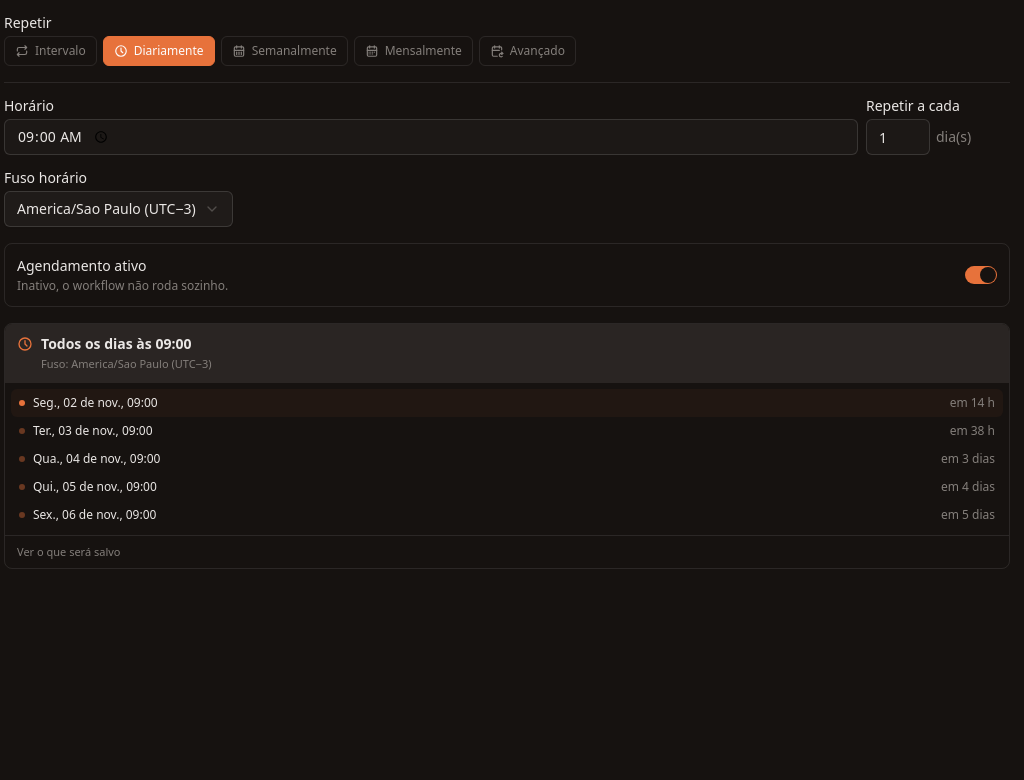
Scenario: ScheduleTriggerHelper — edição grava os campos canônicos › cron avançado inválido não é gravado (preserva o agendamento) e mostra erro
Click the button "Avançado": point(527, 51) [479,36,576,66]
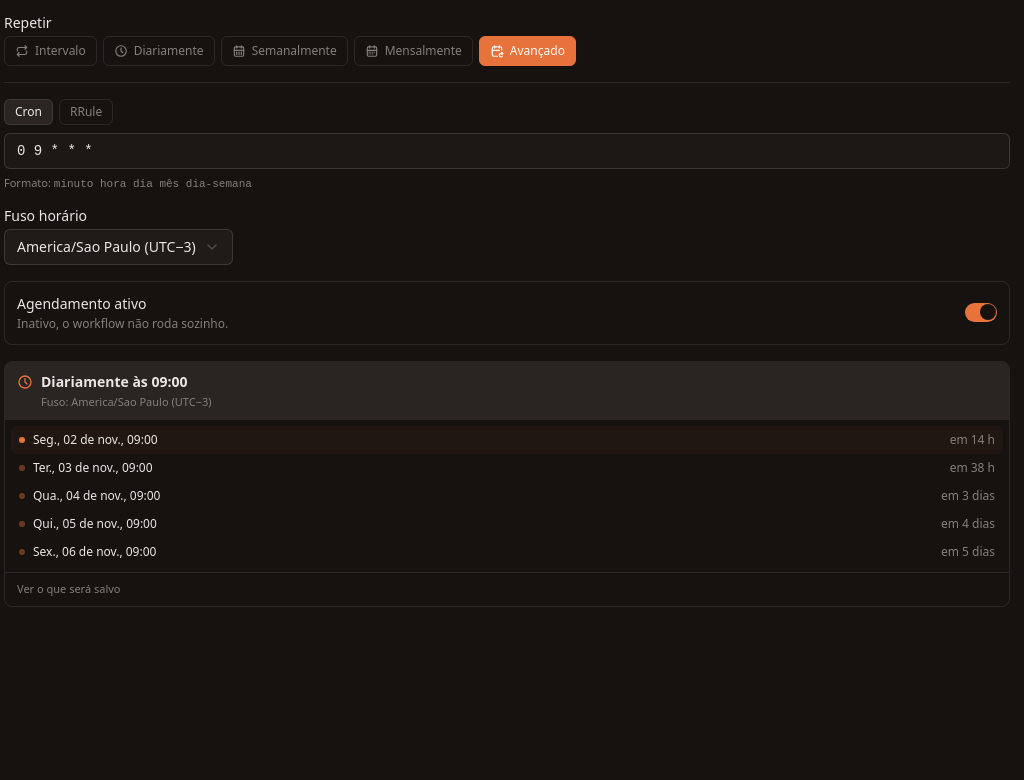
In the field with placeholder "0 9 * * *": point(507, 151) [4,133,1010,169], type "0 9 * *"
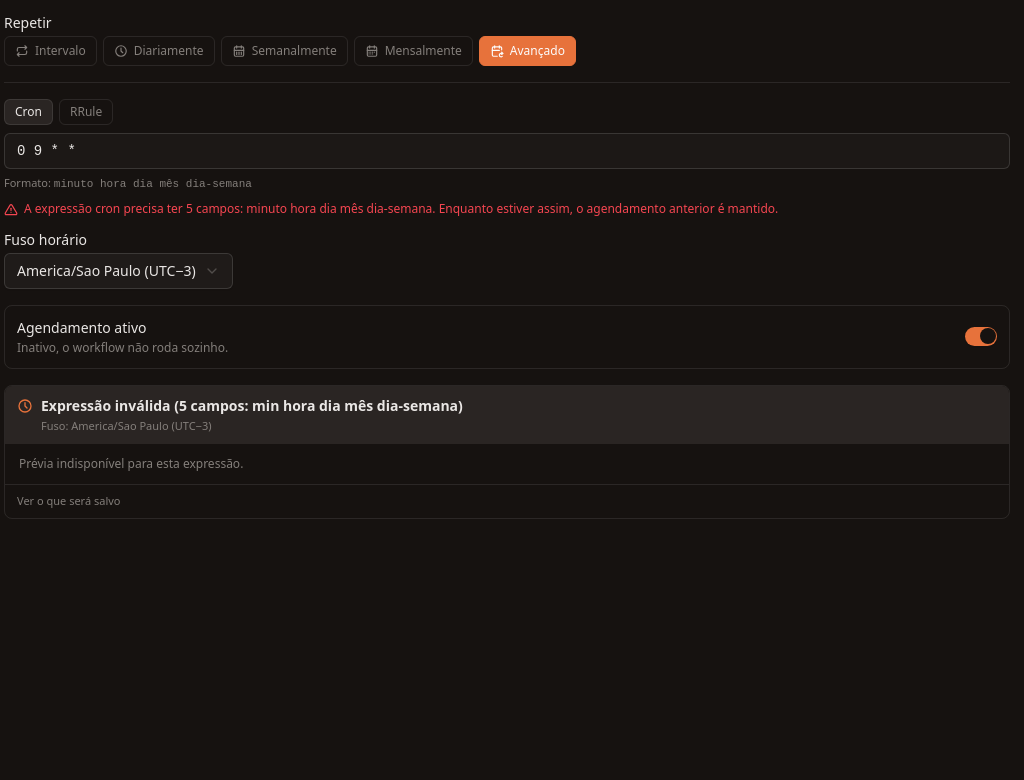
Result: the text "precisa ter 5 campos" is shown at [24,200,436,216]
